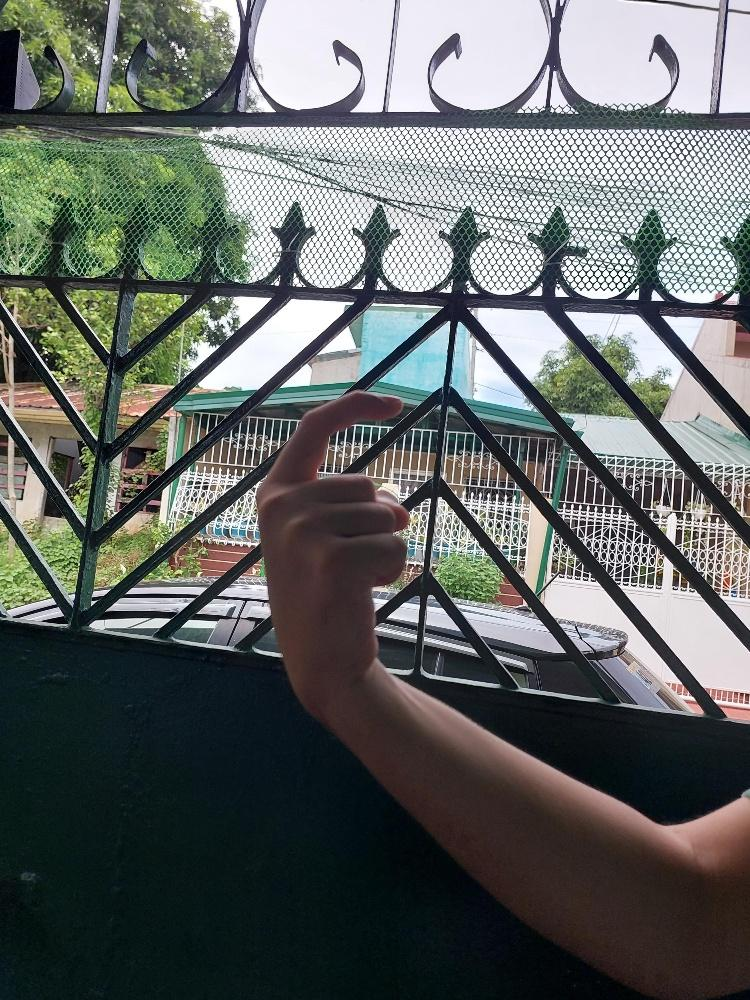x: (253, 385, 414, 706)
